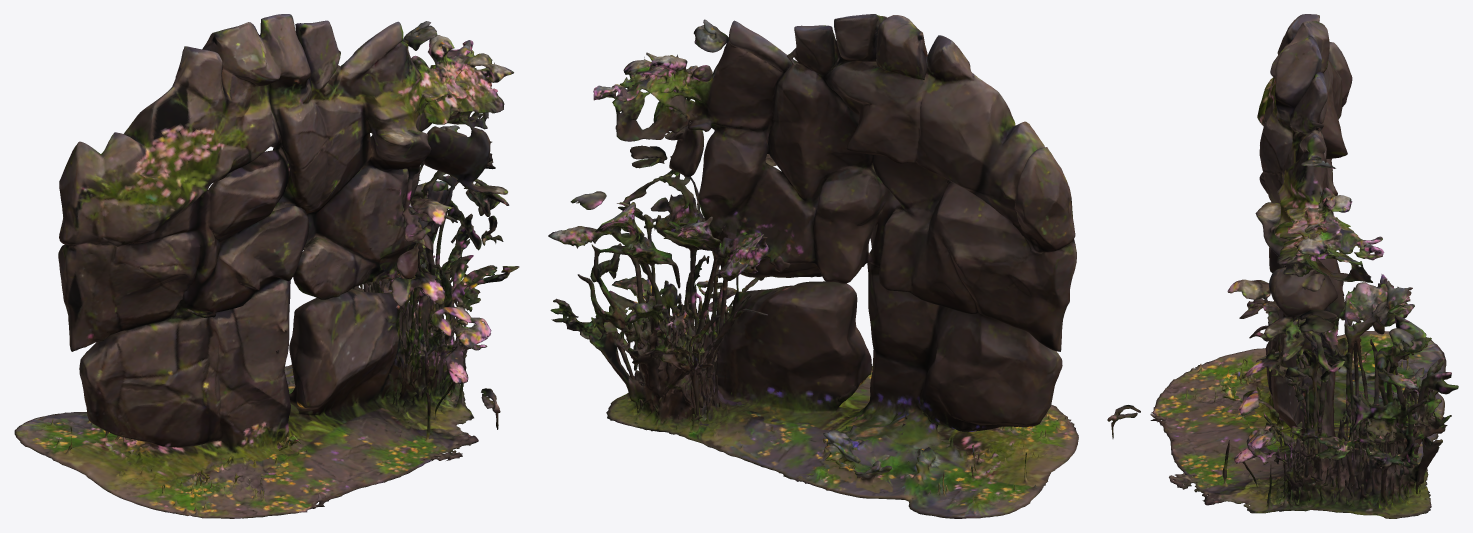
File: a_low_polly_earth_roc_0405013120_texture.fbx
3 views of the same model, side by side, from view 1: azimuth 30°, elevation 25°; view 2: azimuth 150°, elevation 25°; view 3: azimuth 270°, elevation 25° (orthographic). The views are drawn at different scales.
Parts seen in each view (by area): view 1: Mesh_0; view 2: Mesh_0; view 3: Mesh_0.
Part boxes in pixels (x1,y1,x2,y2): Mesh_0: [14, 14, 519, 518]; Mesh_0: [548, 14, 1078, 518]; Mesh_0: [1107, 14, 1458, 518].
Size of the model in its own units: 115 by 100 by 79.59.
Materials: 1 (1 with a texture image).
